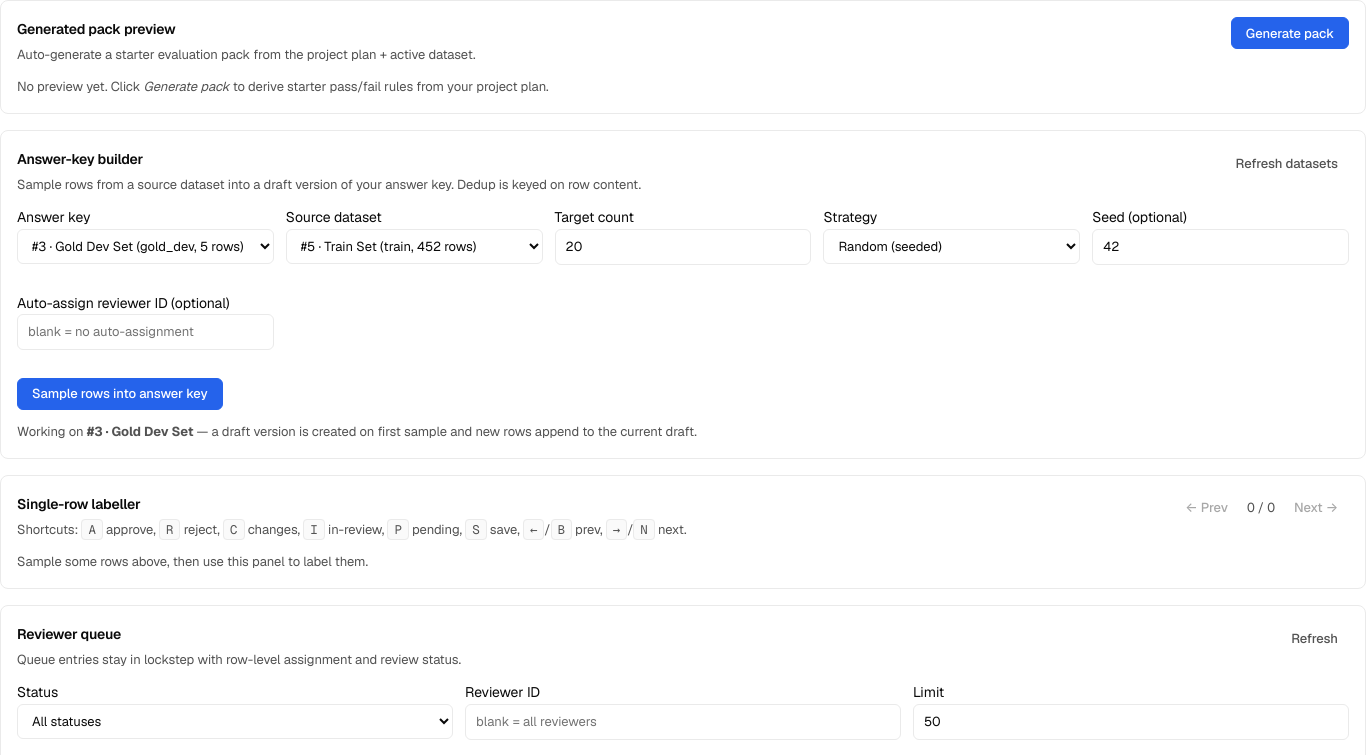
Test: GoldSetWorkbenchPanel › surfaces a backend error message when sampling fails
Select "Stratified by field" in the dropdown below "Strategy" at (952, 247), box [823,229,1080,264]
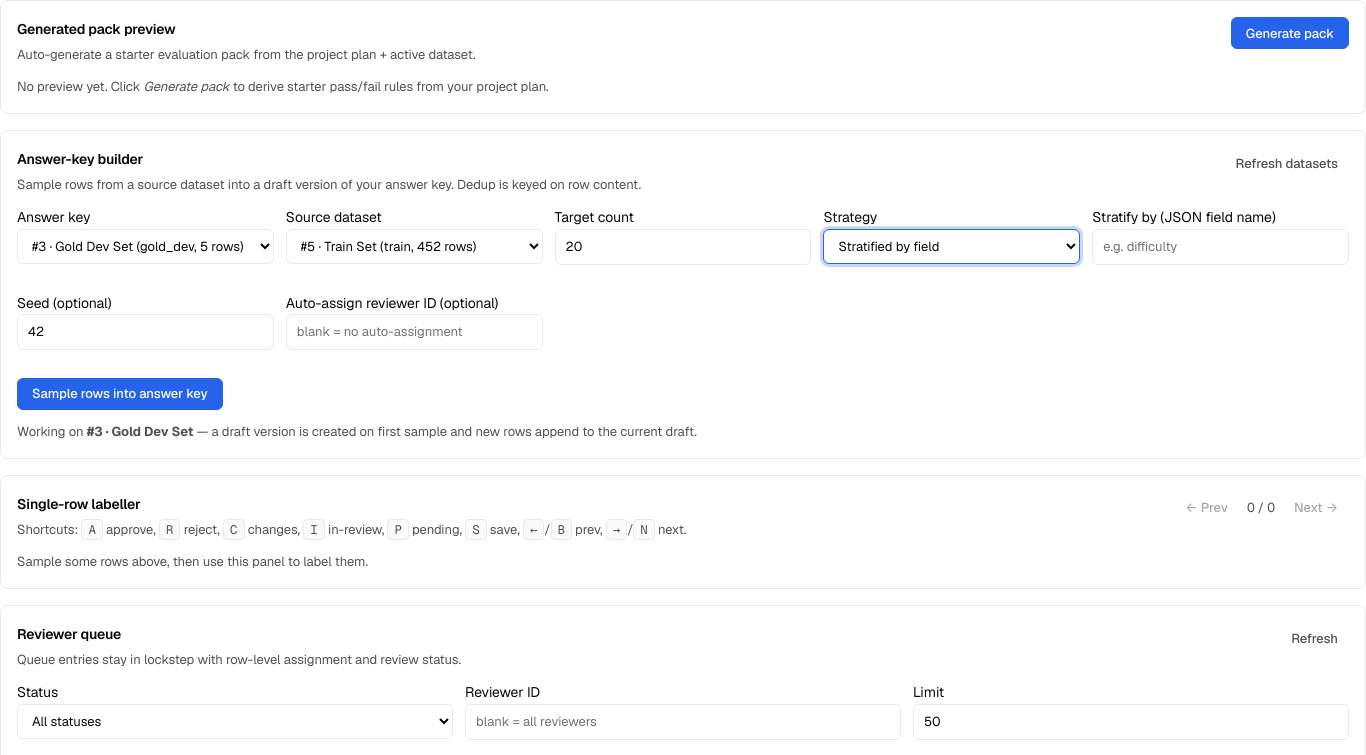
Click the button "Sample rows into answer key" at (120, 394), box [17,378,222,410]
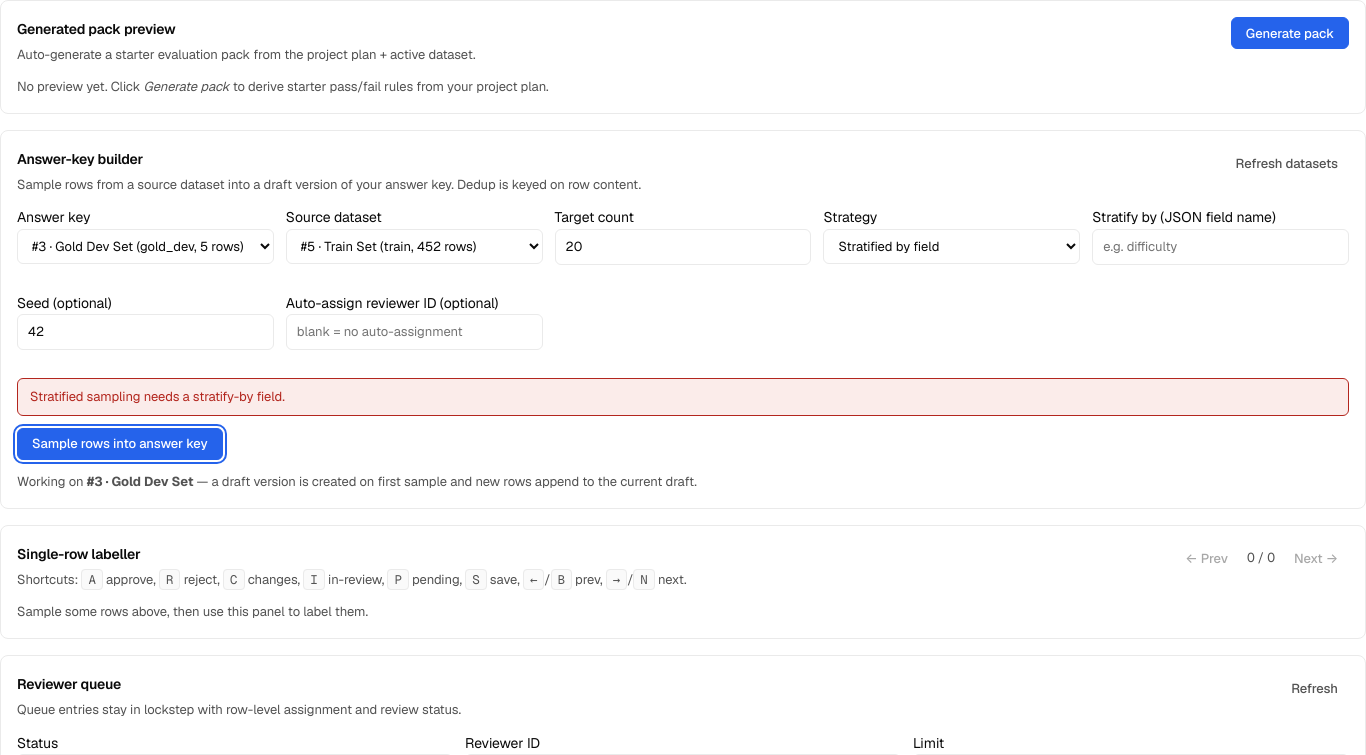
Expected: the text "Stratified sampling needs a stratify-by field." is shown, [17,378,1349,416]
